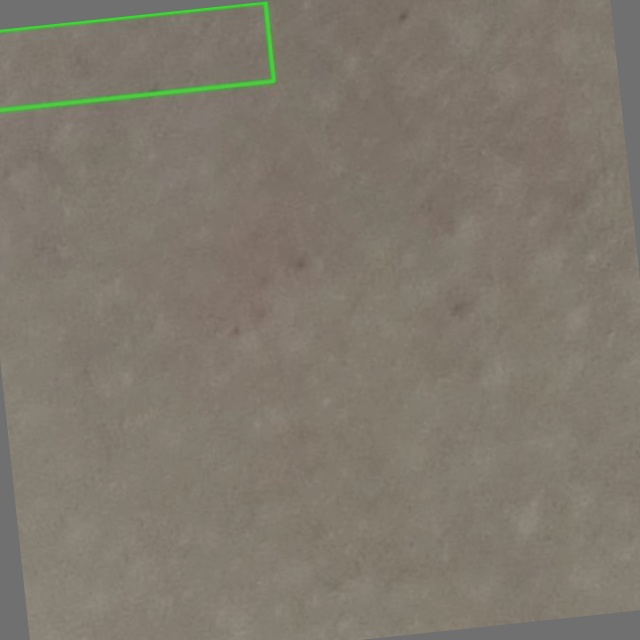Atopic Dermatitis: (0, 2, 273, 110)
